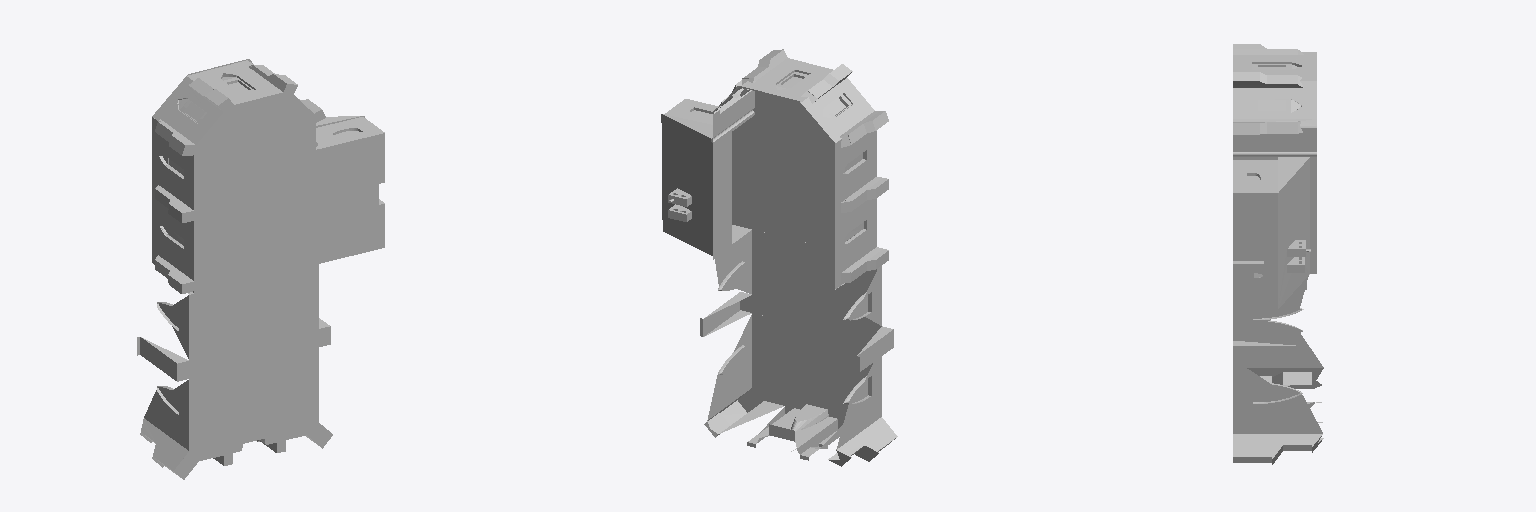
Rendered from Sw Wacław jedna trzecia.obj.
3 renders of one model, left to right at view 1: azimuth 30°, elevation 25°; view 2: azimuth 150°, elevation 25°; view 3: azimuth 270°, elevation 25°, orthographic.
Parts seen in each view (by area): view 1: Radom_3D_Sw_Waclaw_2; view 2: Radom_3D_Sw_Waclaw_2; view 3: Radom_3D_Sw_Waclaw_2.
Part boxes in pixels (left/top/right/bottom): Radom_3D_Sw_Waclaw_2: left=137, top=59, right=384, bottom=479; Radom_3D_Sw_Waclaw_2: left=661, top=49, right=897, bottom=466; Radom_3D_Sw_Waclaw_2: left=1233, top=44, right=1323, bottom=464.
Bounding box in the file's own units: 0.0316 × 0.0526 × 0.012.